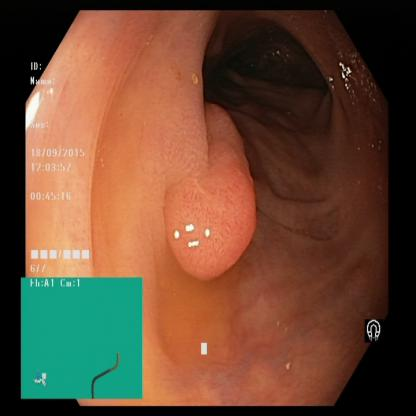Labels: (24, 56, 97, 278), (23, 278, 142, 398), (364, 300, 384, 358)
Polyps: (164, 117, 255, 282)
